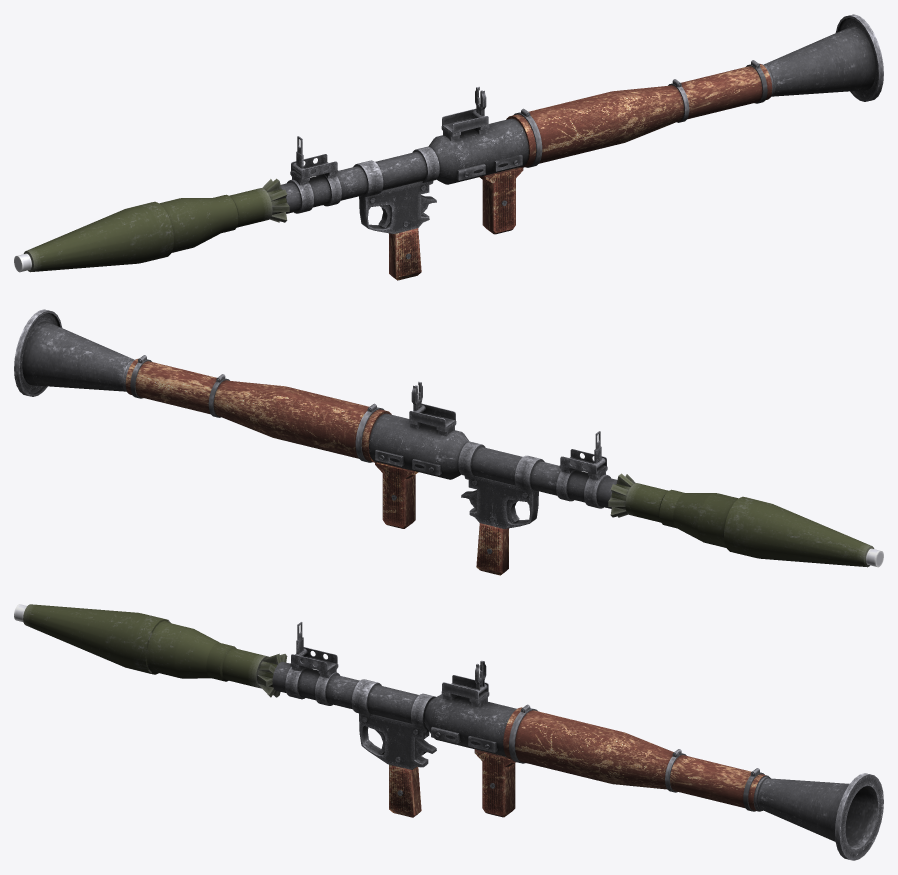
Rendered from RPG-7.obj.
3 views of the same model, one above another, from view 1: azimuth 30°, elevation 25°; view 2: azimuth 150°, elevation 25°; view 3: azimuth 330°, elevation 25° (orthographic).
Parts seen in each view (by area): view 1: RPG_7, RPG_7_Rocket; view 2: RPG_7, RPG_7_Rocket; view 3: RPG_7, RPG_7_Rocket.
Boxes of the visible parts, bbox=[...] form: RPG_7: bbox=[280, 14, 883, 280]; RPG_7_Rocket: bbox=[14, 178, 289, 272]; RPG_7: bbox=[14, 309, 617, 575]; RPG_7_Rocket: bbox=[608, 473, 883, 567]; RPG_7: bbox=[272, 622, 883, 860]; RPG_7_Rocket: bbox=[14, 604, 287, 697].
Bounding box in the file's own units: 472 × 90.34 × 42.87.
